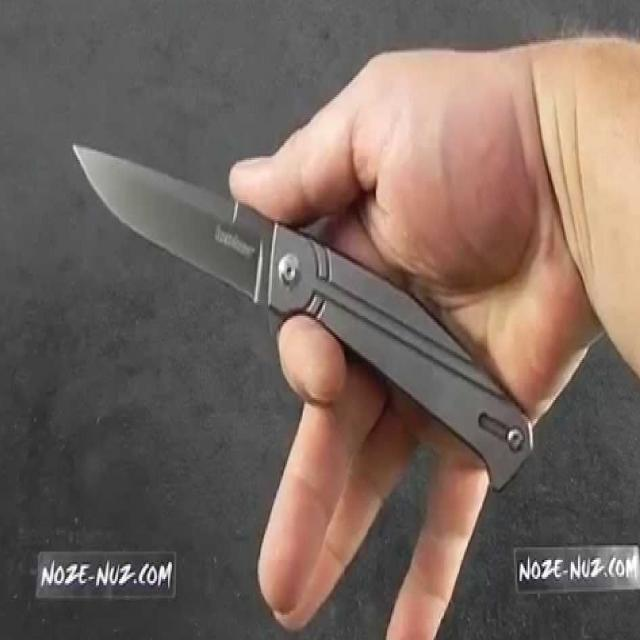weapon: (58, 119, 387, 407)
